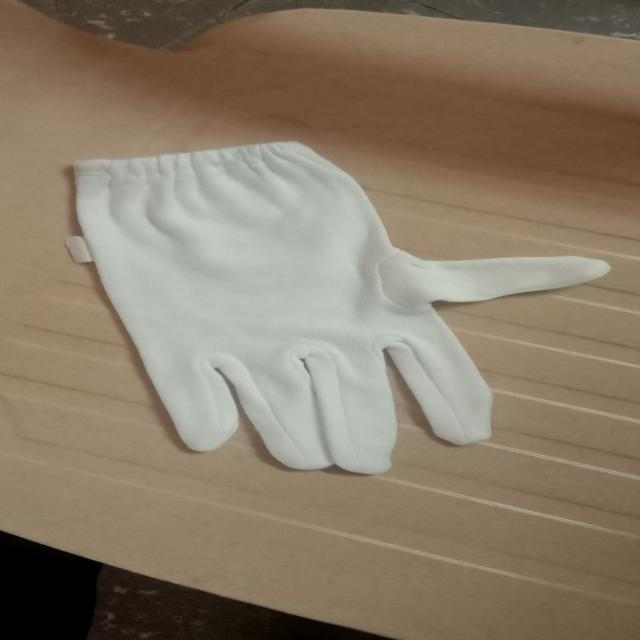glove: (51, 133, 620, 479)
